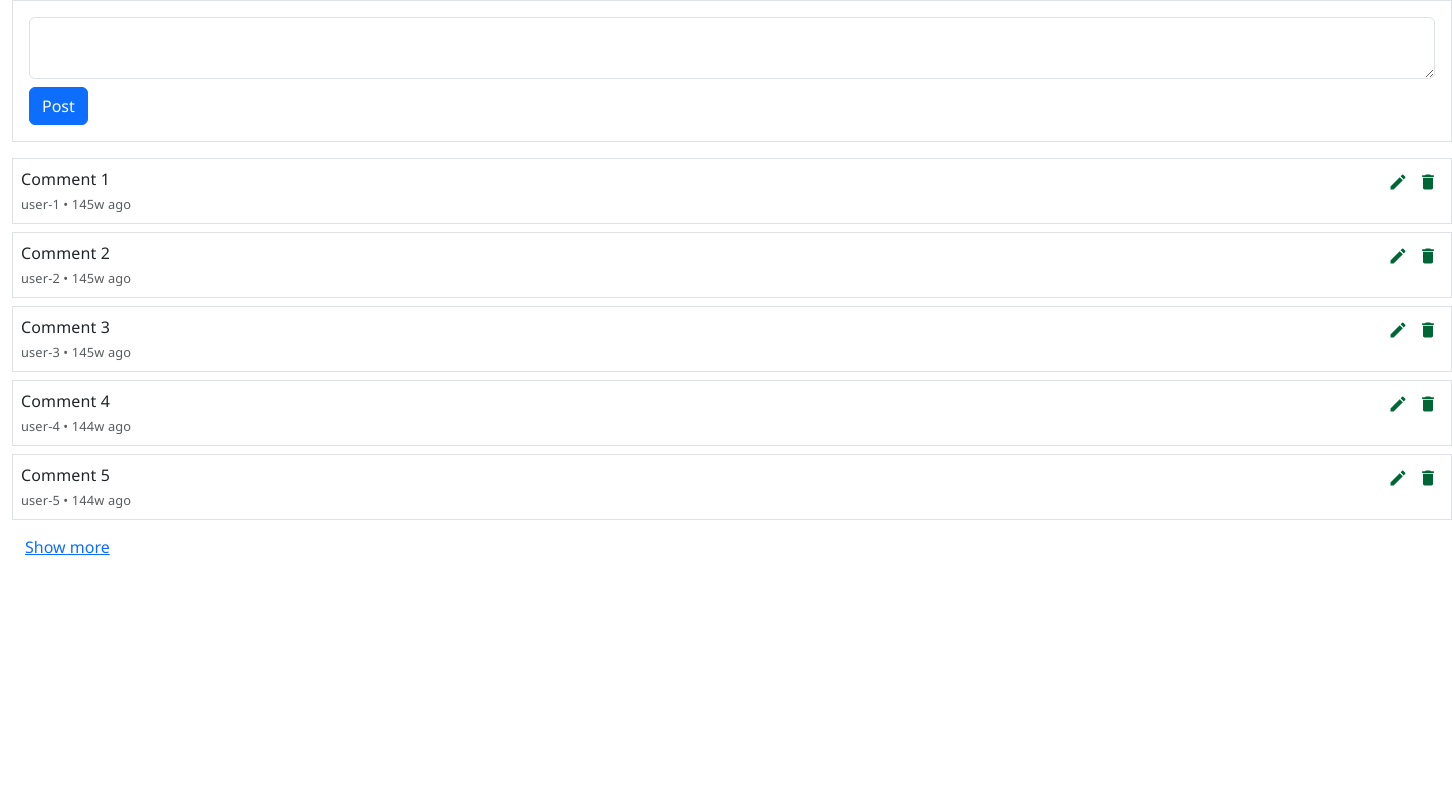
CommentsSection › loads initial comments and allows showing more
Expected: the text "Comment 1" is shown, [21,168,110,190]
Expected: the text "user-1 • 145w ago" is shown, [21,195,131,213]
What coordinates should you click on to do the following:
click the button "Show more"
I would click on:
 (67, 547)
Its box is [12,528,123,566].
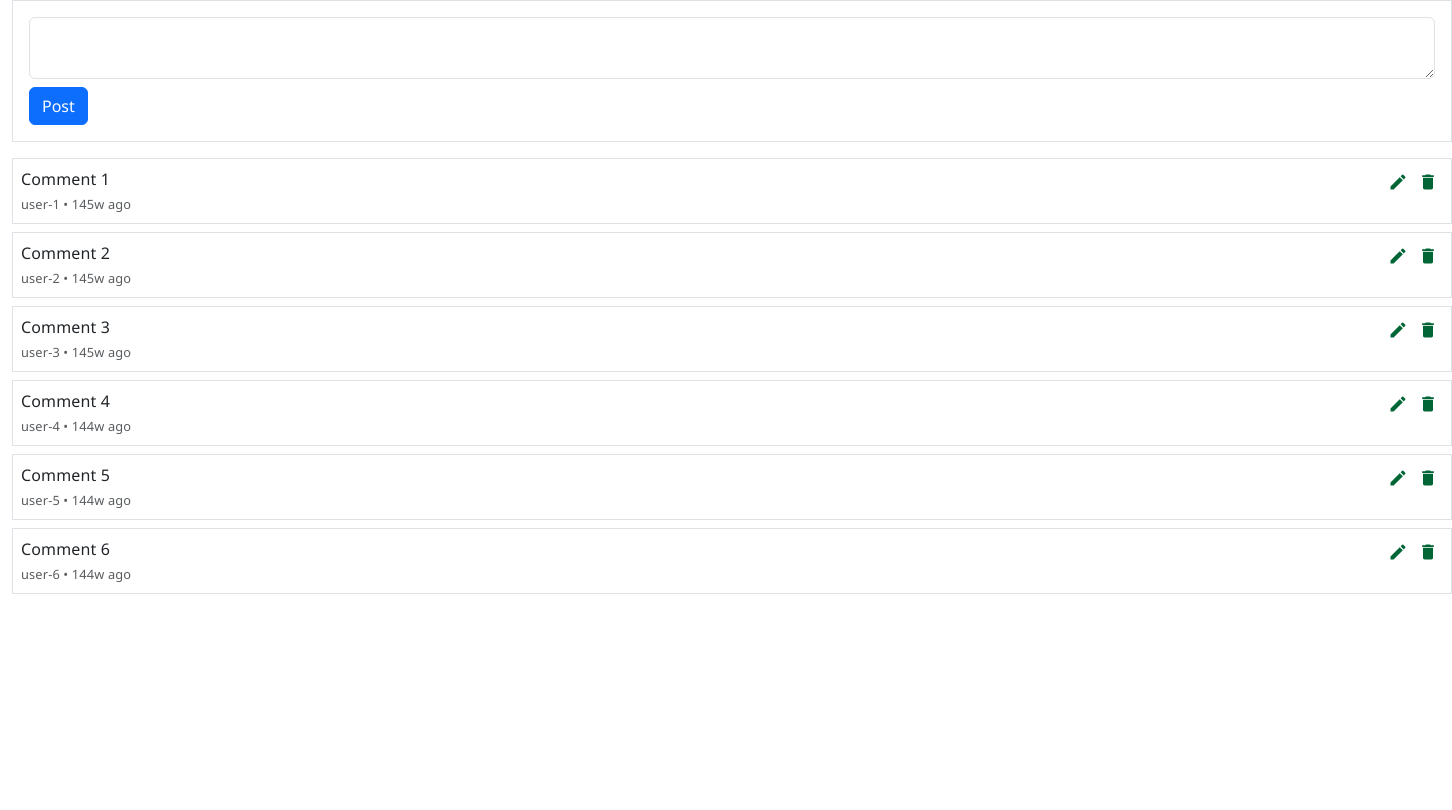
Expected: the text "Comment 6" is shown, [21,538,110,560]
Expected: the button "Show more" is gone
